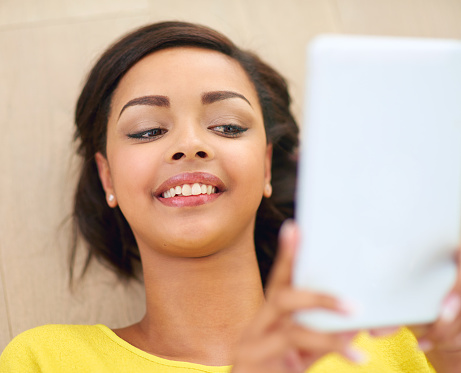deitado: (0, 11, 385, 373)
